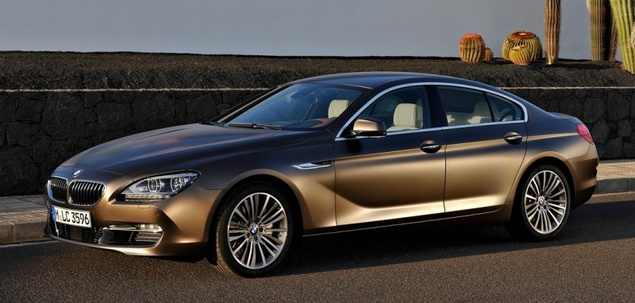bmw: (37, 70, 604, 282)
